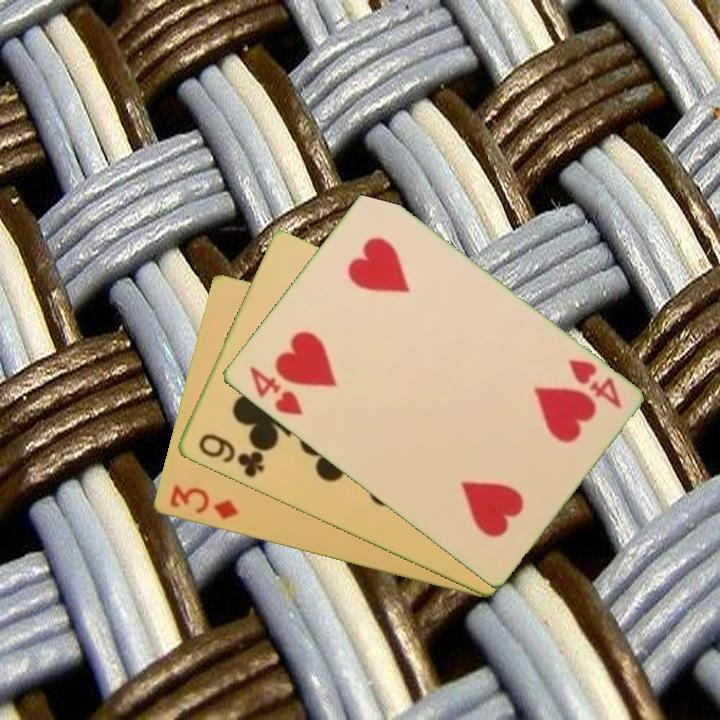3d: (166, 482, 242, 523)
4h: (244, 362, 305, 419), (564, 356, 625, 412)
9c: (194, 430, 267, 481)
